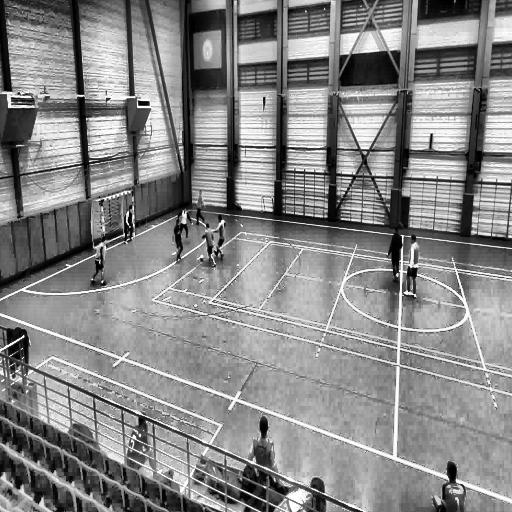ball: (199, 252, 205, 264)
player: (386, 225, 403, 285), (404, 233, 419, 298), (201, 222, 218, 270), (92, 237, 108, 286), (176, 204, 193, 242), (172, 217, 186, 263), (214, 212, 225, 262), (194, 190, 206, 226), (124, 204, 134, 245)
